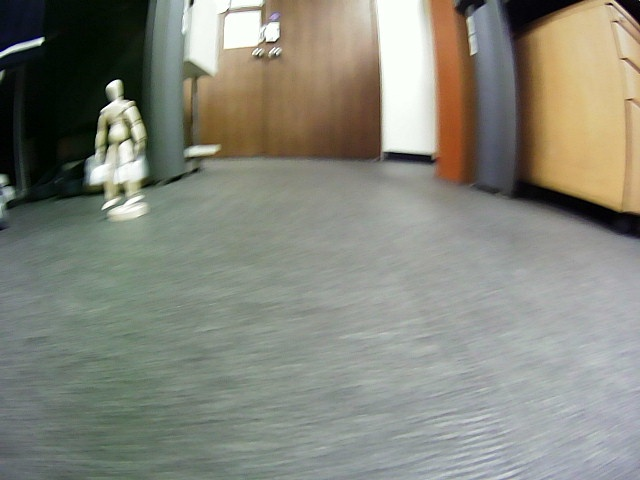person: (94, 76, 149, 207)
